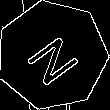N_NE: (20, 24, 85, 86)
